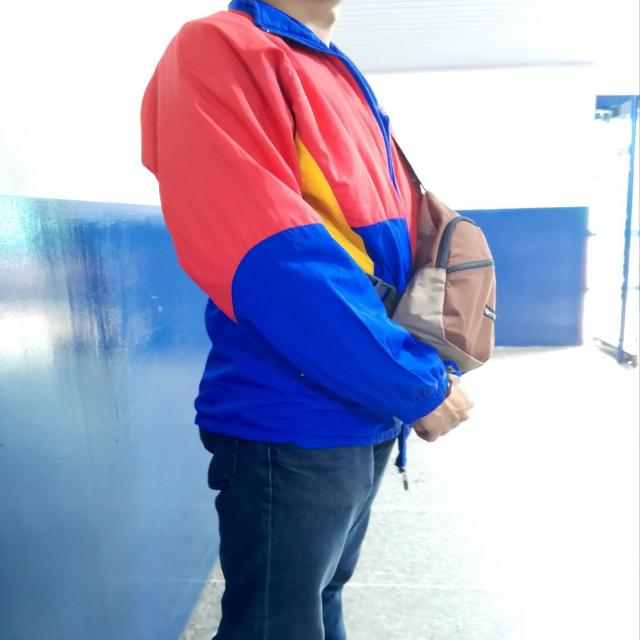chaqueta_unefa: (141, 0, 450, 453)
pantalon_oscuro: (201, 432, 398, 640)
